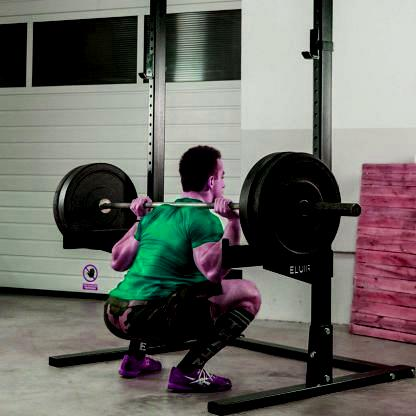Barbell: (351, 203, 366, 221)
